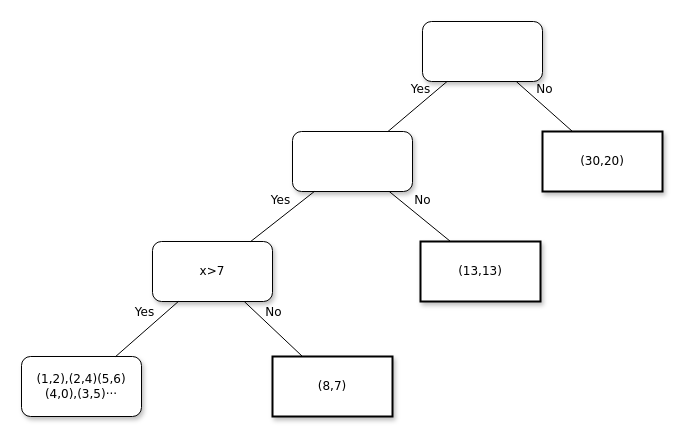
Some shapes in this 687 by 442 pixel diagram are drawn without their labels. Each missing label, with the centre of its shape:
x>18: the point at 483,52
y>12: the point at 353,162
